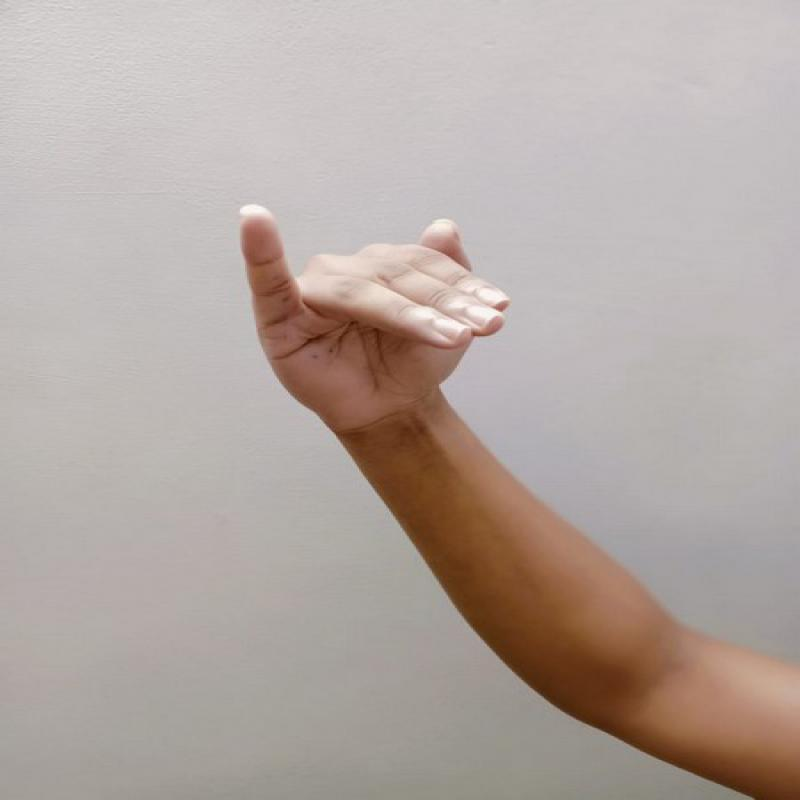Kartharee Mukham: (214, 189, 517, 448)
